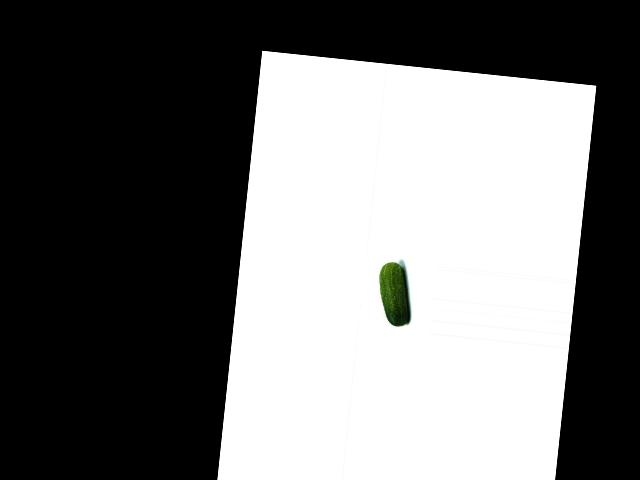cucumber: (374, 261, 414, 327)
